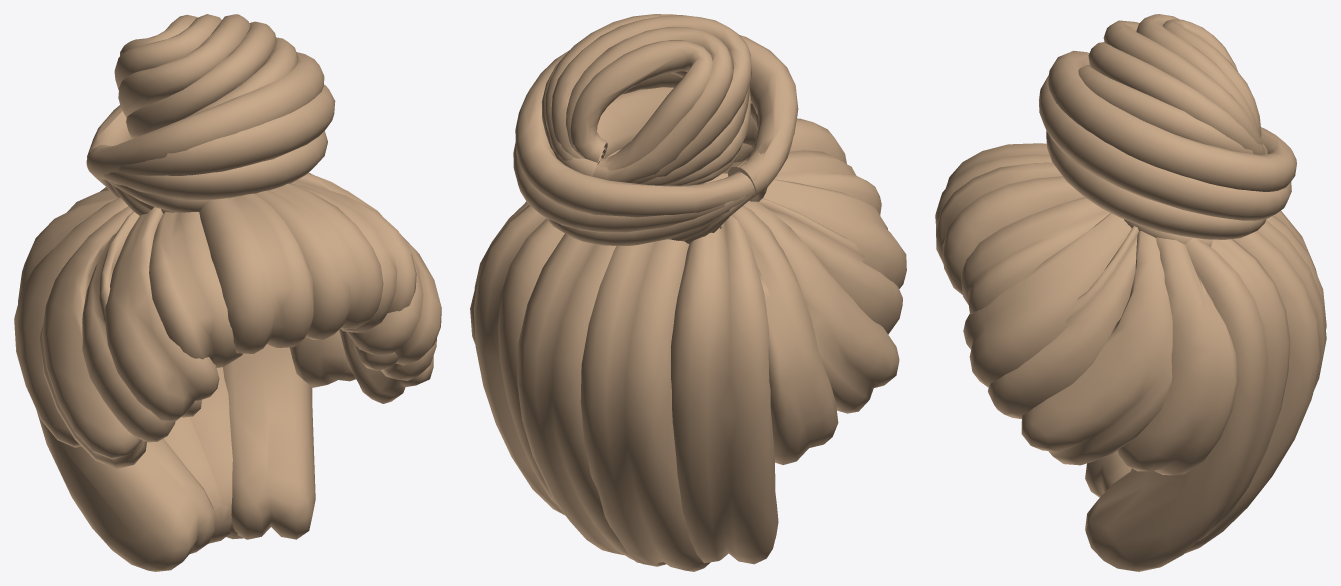
Rendered from hair-4-95b5a300.glb.
3 renders of one model, left to right at view 1: azimuth 30°, elevation 25°; view 2: azimuth 150°, elevation 25°; view 3: azimuth 270°, elevation 25°, orthographic. The views are drawn at different scales.
Parts seen in each view (by area): view 1: Geo_White_Older_Female_Hair_4.001; view 2: Geo_White_Older_Female_Hair_4.001; view 3: Geo_White_Older_Female_Hair_4.001.
Part boxes in pixels (bbox=[...]): Geo_White_Older_Female_Hair_4.001: bbox=[14, 14, 441, 571]; Geo_White_Older_Female_Hair_4.001: bbox=[470, 14, 906, 571]; Geo_White_Older_Female_Hair_4.001: bbox=[935, 14, 1326, 571].
Bounding box in the file's own units: 1.6 × 2.25 × 1.57.
